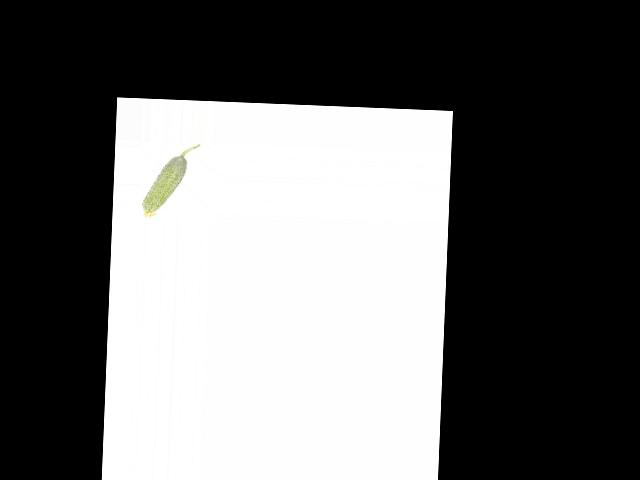cucumber: (141, 142, 200, 220)
